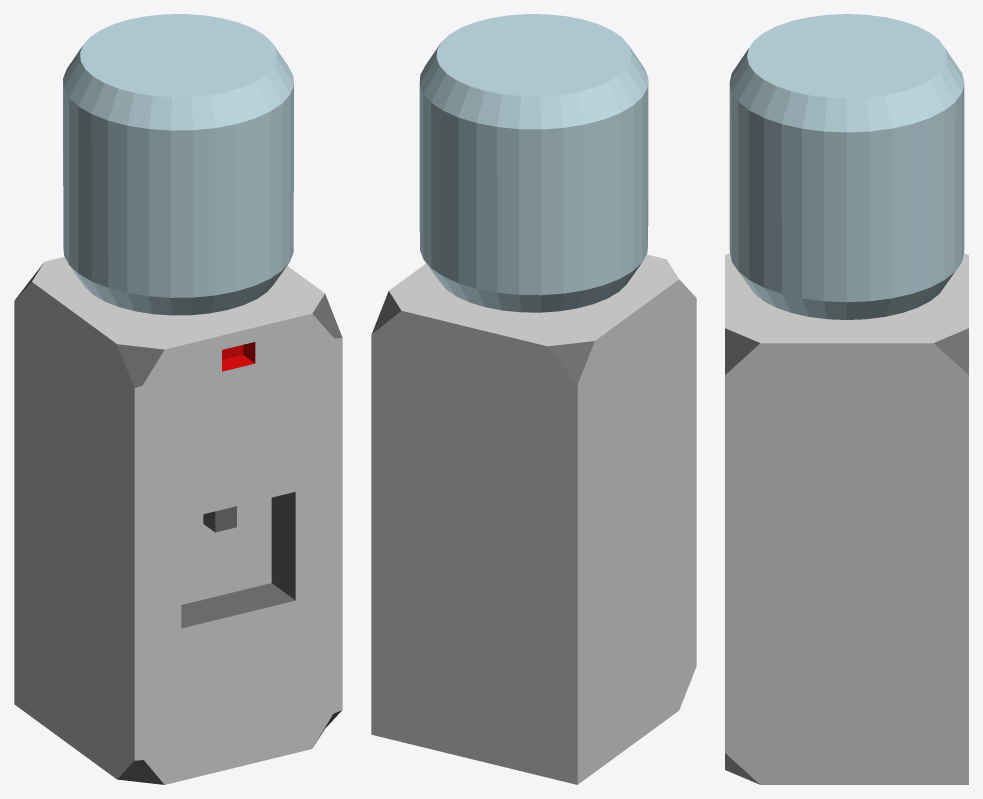
Rendered from WaterCooler.fbx.
3 renders of one model, left to right at view 1: azimuth 30°, elevation 25°; view 2: azimuth 150°, elevation 25°; view 3: azimuth 270°, elevation 25°, orthographic. The views are drawn at different scales.
Visible parts, largest first — view 1: Cube; view 2: Cube; view 3: Cube.
Boxes of the visible parts, bbox=[...] form: Cube: bbox=[14, 14, 342, 784]; Cube: bbox=[371, 14, 696, 784]; Cube: bbox=[725, 14, 968, 784].
Size of the model in its own units: 0.3097 by 0.9494 by 0.3097.
